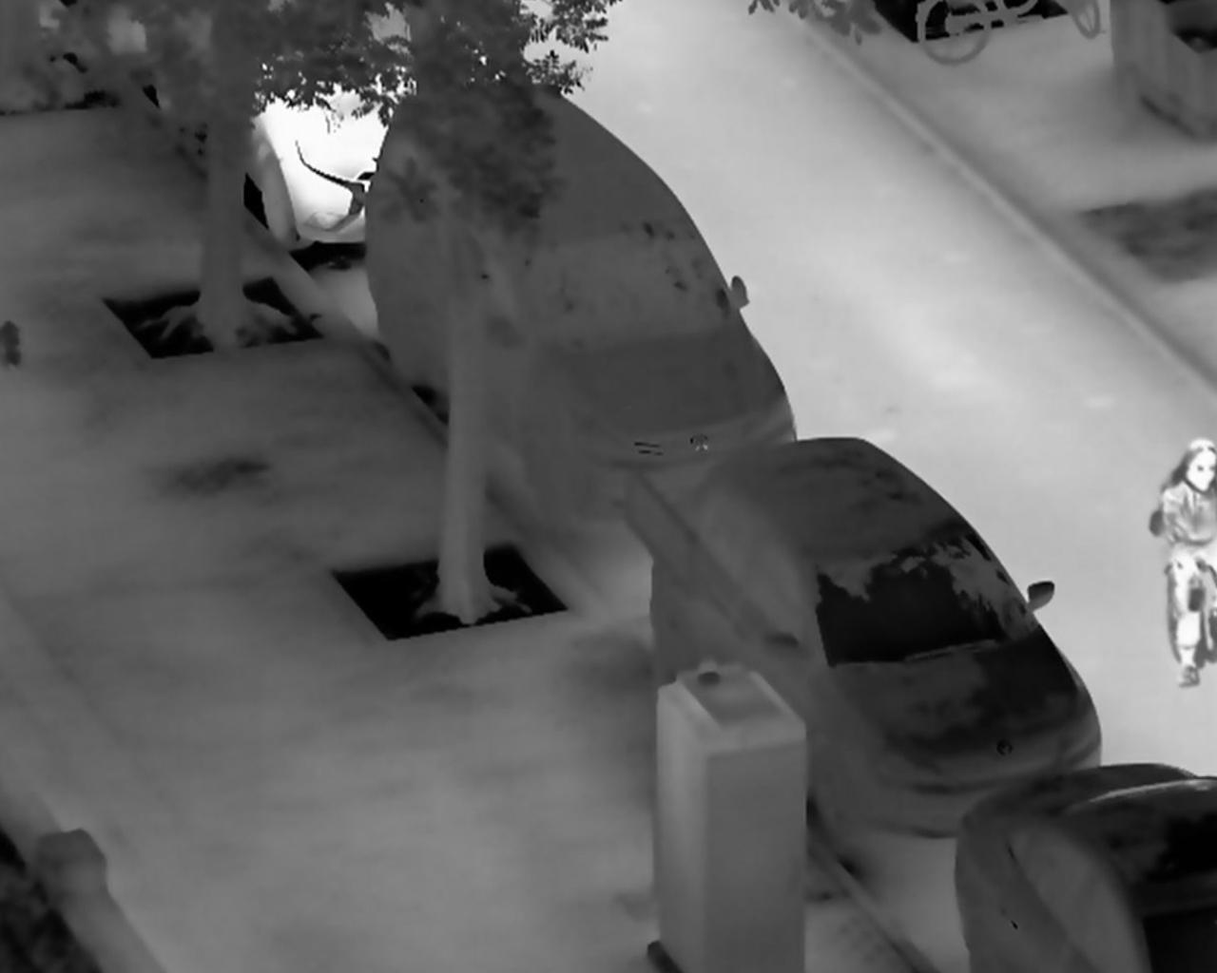person: (1154, 434, 1217, 693)
